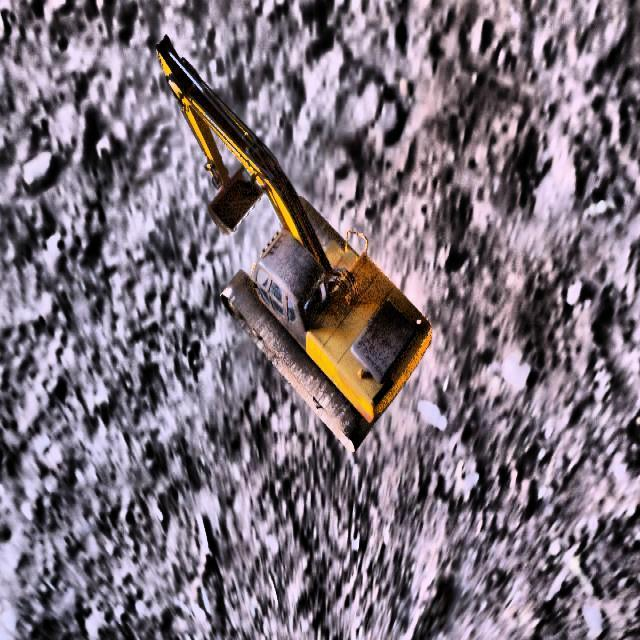excavator: (155, 34, 431, 454)
